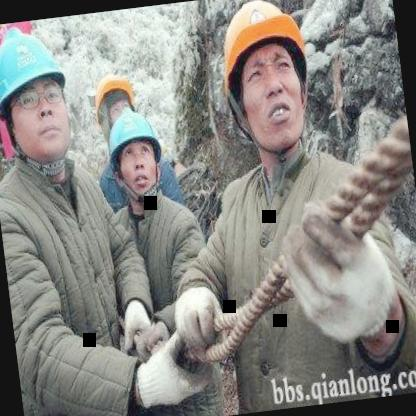helmet: (203, 0, 327, 162), (0, 16, 81, 176), (100, 104, 175, 206), (87, 67, 144, 136)
